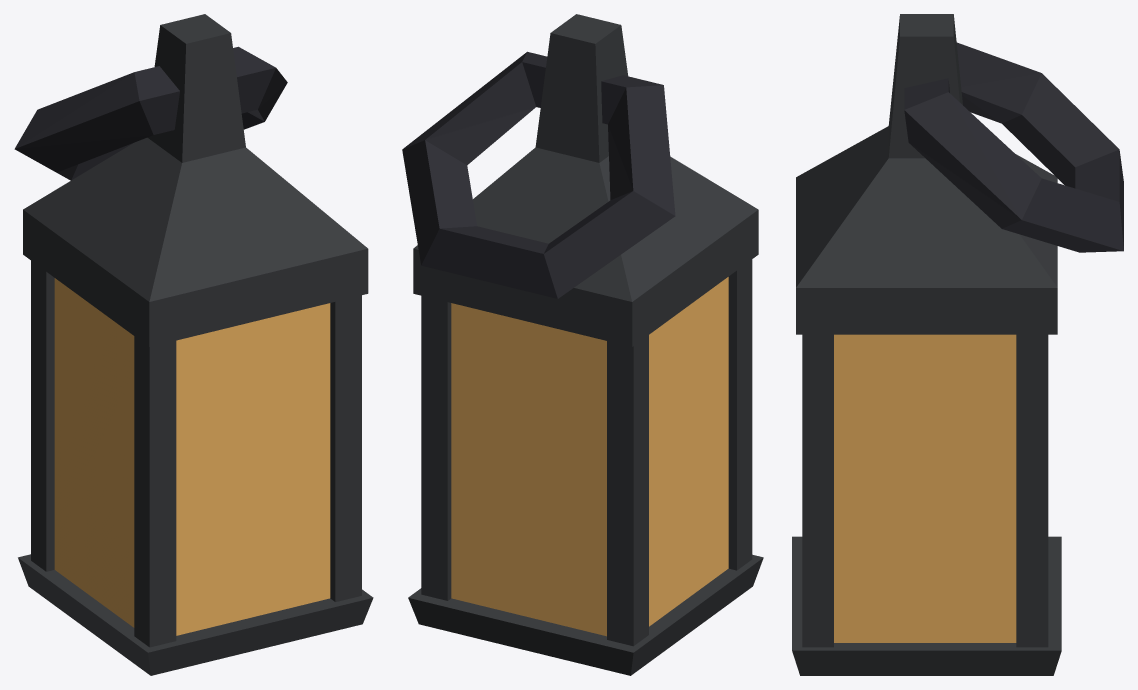
The model's file is Lantern_2.fbx.
3 renders of one model, left to right at view 1: azimuth 30°, elevation 25°; view 2: azimuth 150°, elevation 25°; view 3: azimuth 270°, elevation 25°, orthographic. The views are drawn at different scales.
Parts seen in each view (by area): view 1: polySurface1466; view 2: polySurface1466; view 3: polySurface1466.
Part boxes in pixels (x1=…): polySurface1466: x1=14, y1=14, x2=373, y2=675; polySurface1466: x1=402, y1=14, x2=763, y2=675; polySurface1466: x1=792, y1=14, x2=1123, y2=675.
Bounding box in the file's own units: 32.97 × 66.42 × 33.47.
